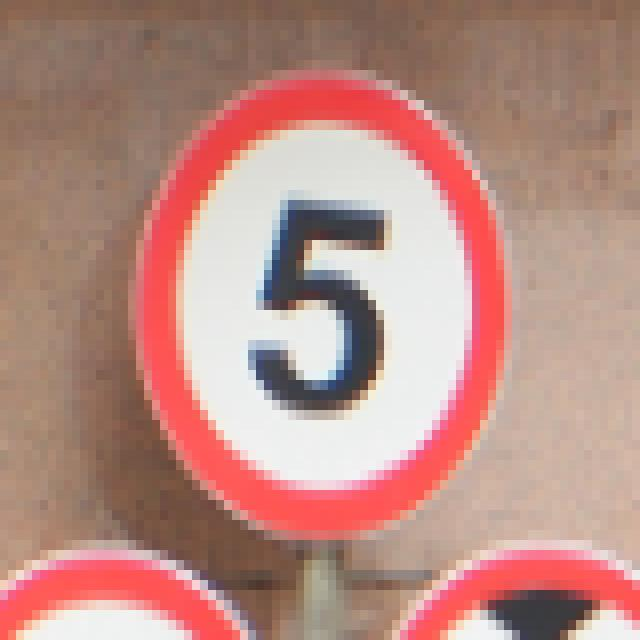Speed: (115, 34, 542, 545)
